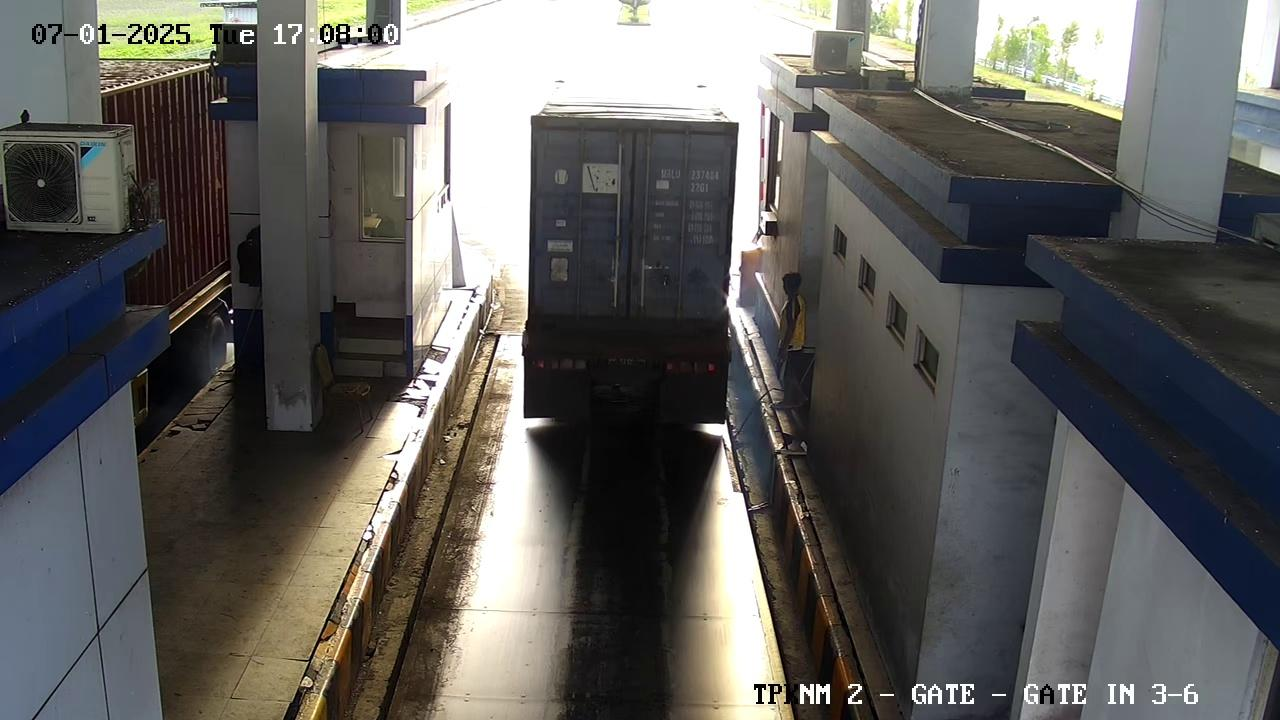Container_ID: (657, 162, 724, 182)
